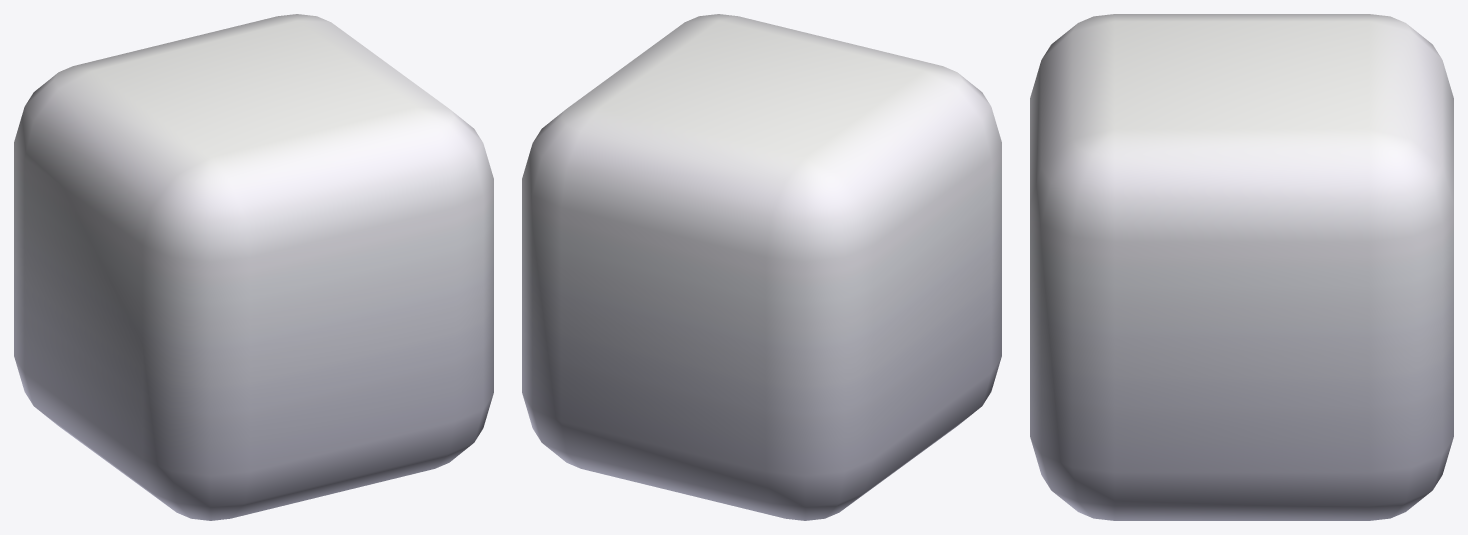
File: cloud.glb
3 views of the same model, side by side, from view 1: azimuth 30°, elevation 25°; view 2: azimuth 150°, elevation 25°; view 3: azimuth 270°, elevation 25° (orthographic). The views are drawn at different scales.
Parts seen in each view (by area): view 1: cloud; view 2: cloud; view 3: cloud.
Part boxes in pixels (x1=…): cloud: x1=14, y1=14, x2=493, y2=520; cloud: x1=522, y1=14, x2=1001, y2=520; cloud: x1=1030, y1=14, x2=1453, y2=520.
Size of the model in its own units: 1 by 1 by 1.
1 material, 1 textured.
